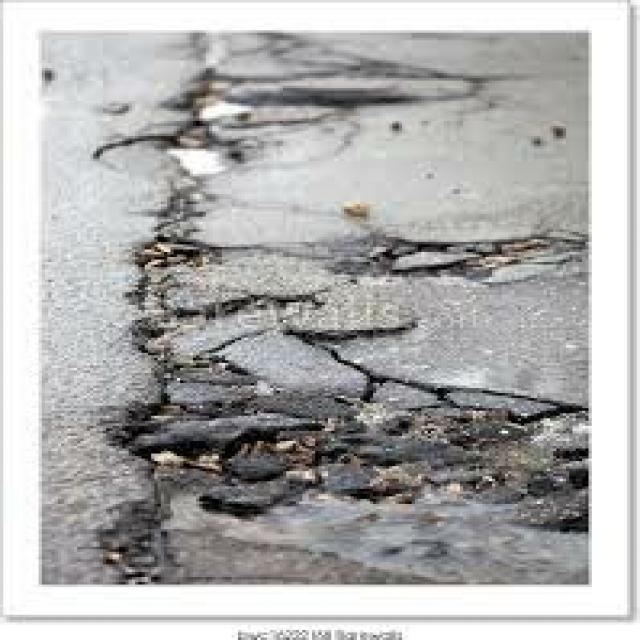Pothole: (64, 48, 637, 582)
